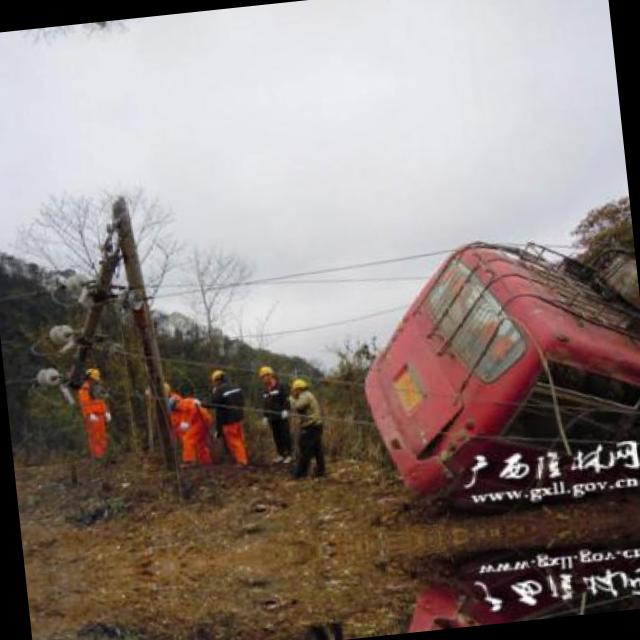helmet: (203, 364, 230, 392), (252, 358, 276, 388), (286, 373, 309, 395), (81, 364, 103, 386)
